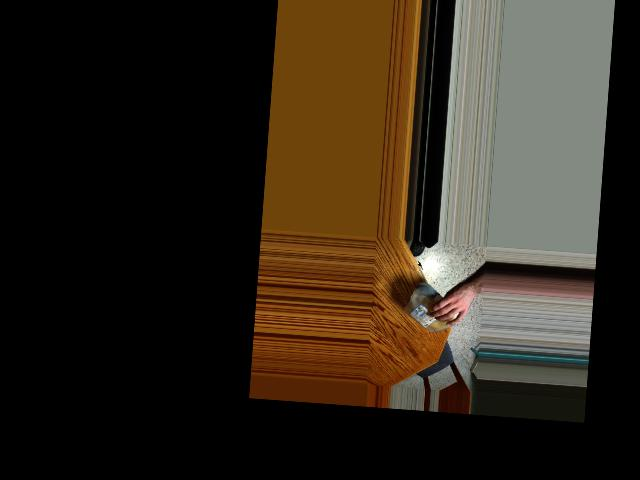cheese: (401, 287, 463, 337)
